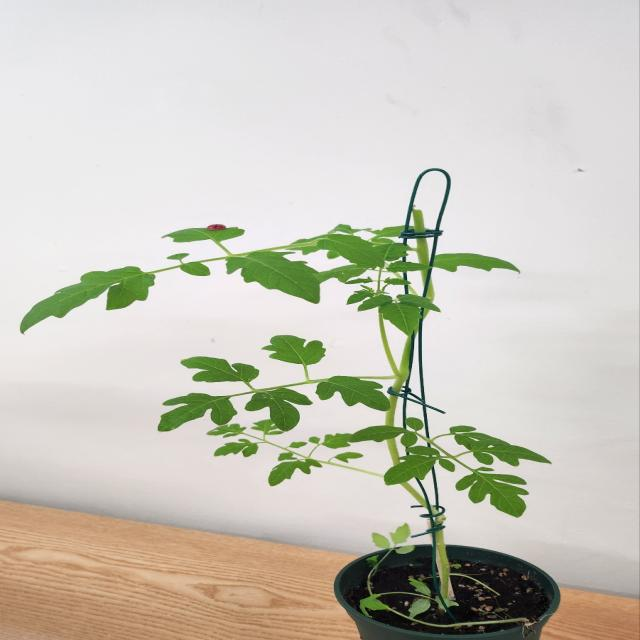bug: (202, 222, 247, 238)
